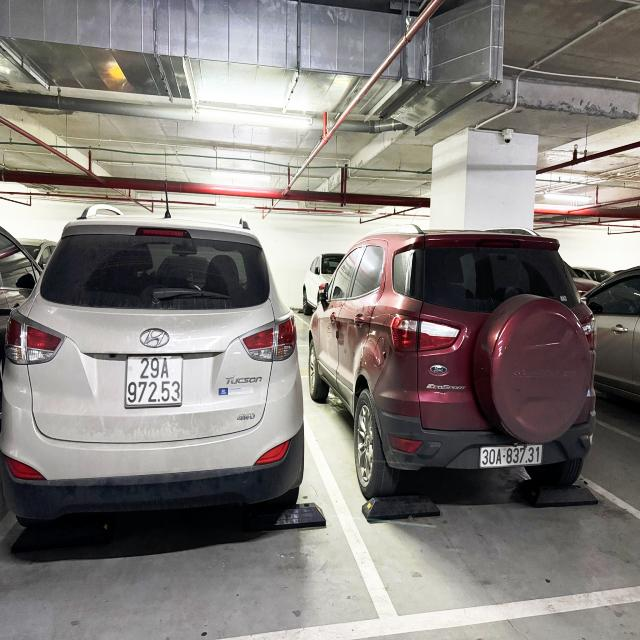license_plate: (122, 350, 187, 413), (479, 442, 547, 472)
